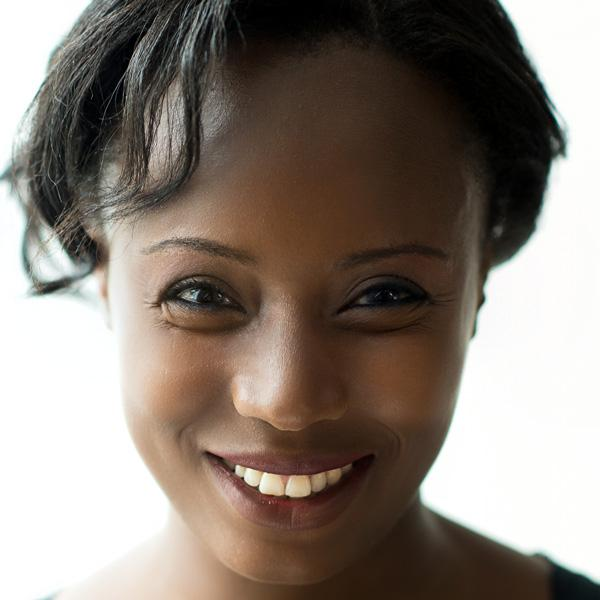Eyes: (146, 263, 264, 332), (331, 266, 436, 331)
